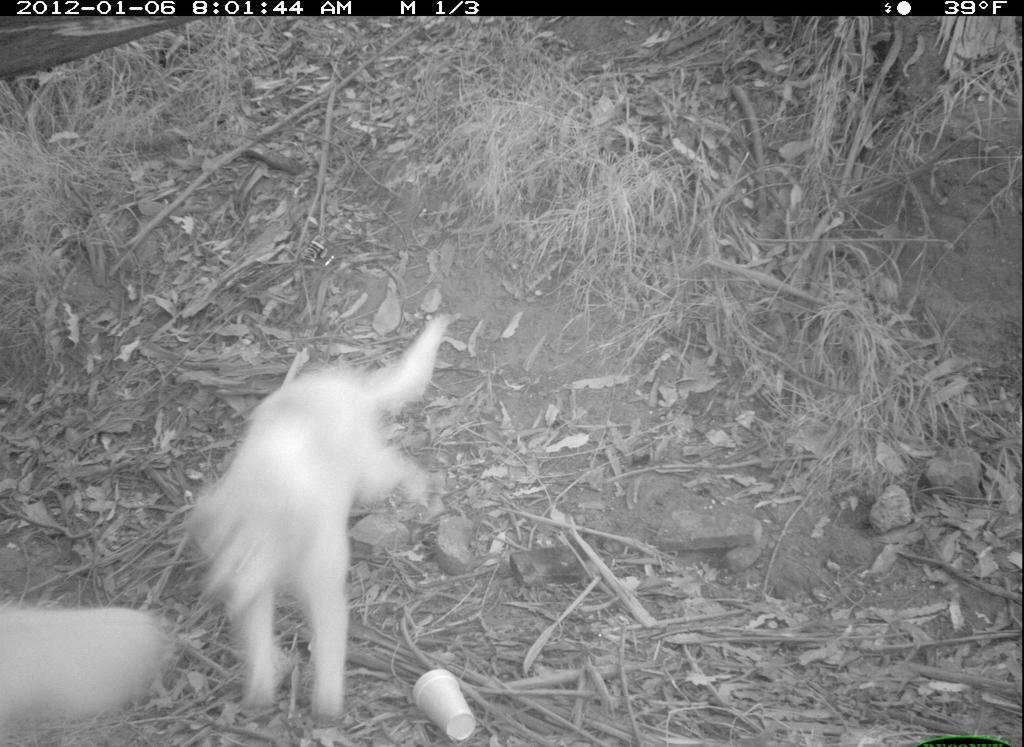dog: (185, 309, 464, 730)
